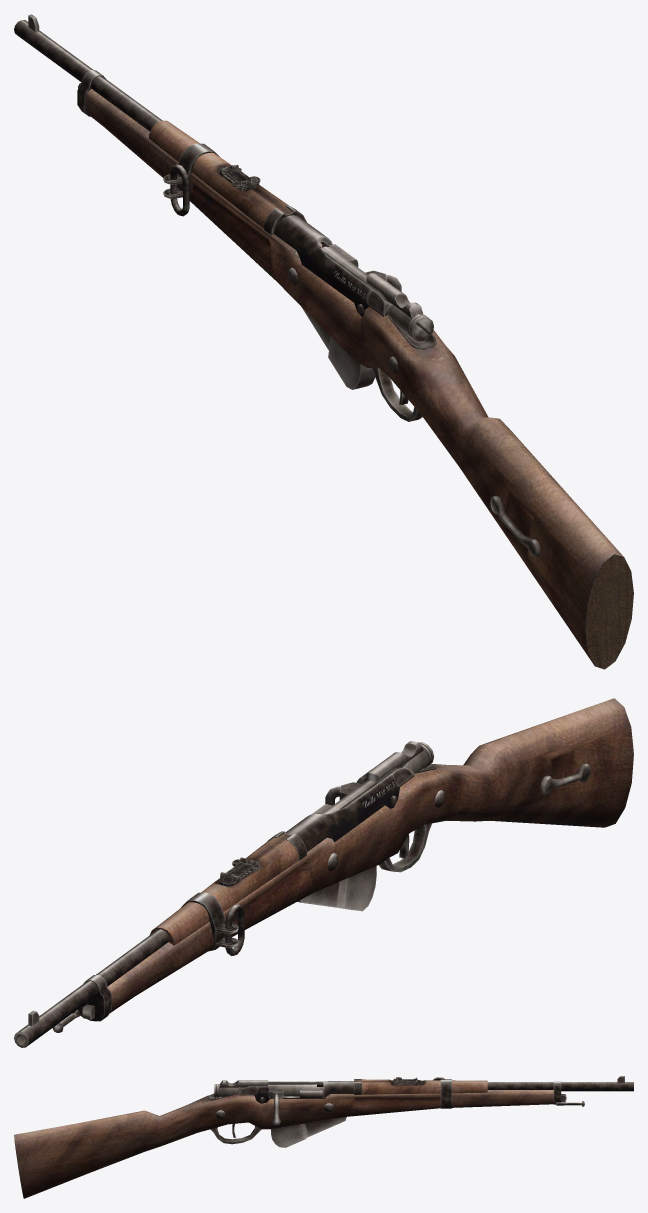
Rendered from Winchester.FBX.
3 renders of one model, top to bottom at view 1: azimuth 30°, elevation 25°; view 2: azimuth 150°, elevation 25°; view 3: azimuth 270°, elevation 25°, orthographic. The views are drawn at different scales.
Visible parts, largest first — view 1: LOD01_berthier-1; view 2: LOD01_berthier-1; view 3: LOD01_berthier-1.
Boxes of the visible parts, <box> form: LOD01_berthier-1: <box>14,14,633,669</box>; LOD01_berthier-1: <box>14,698,633,1047</box>; LOD01_berthier-1: <box>14,1076,633,1198</box>.
Size of the model in its own units: 0.8006 by 2.3 by 10.56.
